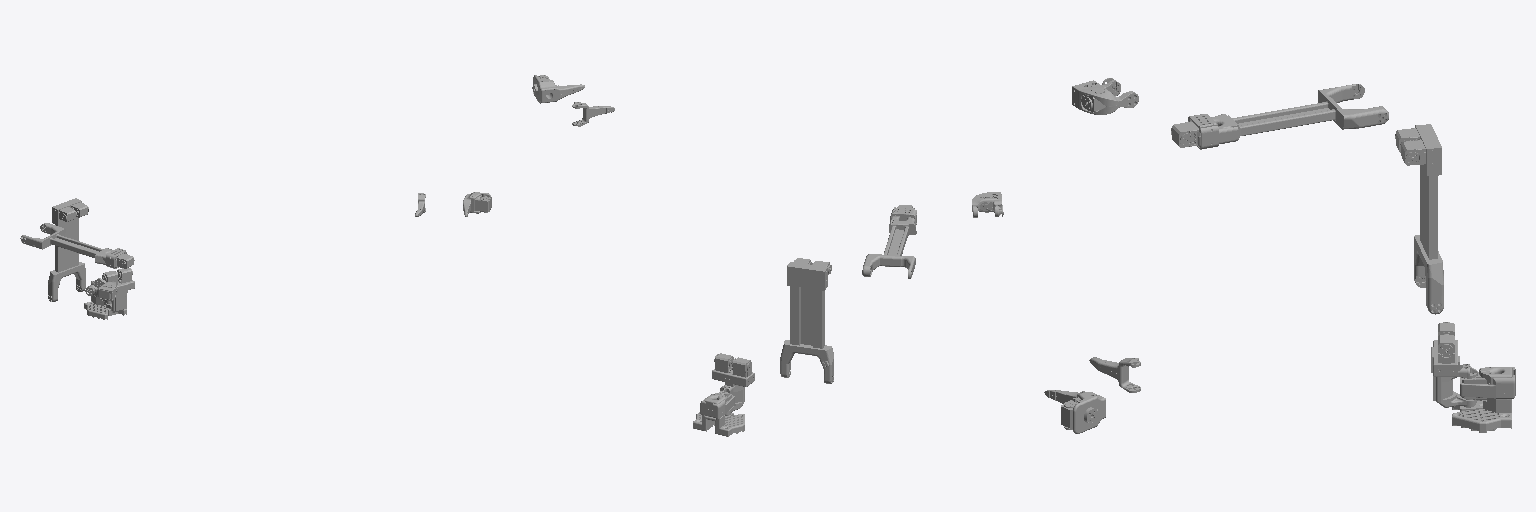
robot.urdf — PingTi_Arm_v3:
<?xml version="1.0" ?>
<!-- =================================================================================== -->
<!-- |    This document was autogenerated by xacro from /root/PingTi_Arm_v3_description/urdf/PingTi_Arm_v3.xacro | -->
<!-- |    EDITING THIS FILE BY HAND IS NOT RECOMMENDED                                 | -->
<!-- =================================================================================== -->
<robot name="PingTi_Arm_v3">
  <material name="silver">
    <color rgba="0.700 0.700 0.700 1.000"/>
  </material>
  <transmission name="elbow_pitch_tran">
    <type>transmission_interface/SimpleTransmission</type>
    <joint name="elbow_pitch">
      <hardwareInterface>hardware_interface/EffortJointInterface</hardwareInterface>
    </joint>
    <actuator name="elbow_pitch_actr">
      <hardwareInterface>hardware_interface/EffortJointInterface</hardwareInterface>
      <mechanicalReduction>1</mechanicalReduction>
    </actuator>
  </transmission>
  <transmission name="wrist_pitch_tran">
    <type>transmission_interface/SimpleTransmission</type>
    <joint name="wrist_pitch">
      <hardwareInterface>hardware_interface/EffortJointInterface</hardwareInterface>
    </joint>
    <actuator name="wrist_pitch_actr">
      <hardwareInterface>hardware_interface/EffortJointInterface</hardwareInterface>
      <mechanicalReduction>1</mechanicalReduction>
    </actuator>
  </transmission>
  <transmission name="wrist_roll_tran">
    <type>transmission_interface/SimpleTransmission</type>
    <joint name="wrist_roll">
      <hardwareInterface>hardware_interface/EffortJointInterface</hardwareInterface>
    </joint>
    <actuator name="wrist_roll_actr">
      <hardwareInterface>hardware_interface/EffortJointInterface</hardwareInterface>
      <mechanicalReduction>1</mechanicalReduction>
    </actuator>
  </transmission>
  <transmission name="gripper_moving_tran">
    <type>transmission_interface/SimpleTransmission</type>
    <joint name="gripper_moving">
      <hardwareInterface>hardware_interface/EffortJointInterface</hardwareInterface>
    </joint>
    <actuator name="gripper_moving_actr">
      <hardwareInterface>hardware_interface/EffortJointInterface</hardwareInterface>
      <mechanicalReduction>1</mechanicalReduction>
    </actuator>
  </transmission>
  <transmission name="base_yaw_tran">
    <type>transmission_interface/SimpleTransmission</type>
    <joint name="base_yaw">
      <hardwareInterface>hardware_interface/EffortJointInterface</hardwareInterface>
    </joint>
    <actuator name="base_yaw_actr">
      <hardwareInterface>hardware_interface/EffortJointInterface</hardwareInterface>
      <mechanicalReduction>1</mechanicalReduction>
    </actuator>
  </transmission>
  <transmission name="shoulder_pitch_tran">
    <type>transmission_interface/SimpleTransmission</type>
    <joint name="shoulder_pitch">
      <hardwareInterface>hardware_interface/EffortJointInterface</hardwareInterface>
    </joint>
    <actuator name="shoulder_pitch_actr">
      <hardwareInterface>hardware_interface/EffortJointInterface</hardwareInterface>
      <mechanicalReduction>1</mechanicalReduction>
    </actuator>
  </transmission>
  <gazebo>
    <plugin filename="libgazebo_ros_control.so" name="control"/>
  </gazebo>
  <gazebo reference="base_link">
    <material>Gazebo/Silver</material>
    <mu1>0.2</mu1>
    <mu2>0.2</mu2>
    <selfCollide>true</selfCollide>
    <gravity>true</gravity>
  </gazebo>
  <gazebo reference="elbow_link_1">
    <material>Gazebo/Silver</material>
    <mu1>0.2</mu1>
    <mu2>0.2</mu2>
    <selfCollide>true</selfCollide>
  </gazebo>
  <gazebo reference="STS3215_wrist_pitch_1">
    <material>Gazebo/Silver</material>
    <mu1>0.2</mu1>
    <mu2>0.2</mu2>
    <selfCollide>true</selfCollide>
  </gazebo>
  <gazebo reference="wrist_link_1">
    <material>Gazebo/Silver</material>
    <mu1>0.2</mu1>
    <mu2>0.2</mu2>
    <selfCollide>true</selfCollide>
  </gazebo>
  <gazebo reference="STS3215_wrist_roll_1">
    <material>Gazebo/Silver</material>
    <mu1>0.2</mu1>
    <mu2>0.2</mu2>
    <selfCollide>true</selfCollide>
  </gazebo>
  <gazebo reference="gripper_mount_1">
    <material>Gazebo/Silver</material>
    <mu1>0.2</mu1>
    <mu2>0.2</mu2>
    <selfCollide>true</selfCollide>
  </gazebo>
  <gazebo reference="STS3215_gripper_1">
    <material>Gazebo/Silver</material>
    <mu1>0.2</mu1>
    <mu2>0.2</mu2>
    <selfCollide>true</selfCollide>
  </gazebo>
  <gazebo reference="moving_gripper_1">
    <material>Gazebo/Silver</material>
    <mu1>0.2</mu1>
    <mu2>0.2</mu2>
    <selfCollide>true</selfCollide>
  </gazebo>
  <gazebo reference="wrist_mount_link_1">
    <material>Gazebo/Silver</material>
    <mu1>0.2</mu1>
    <mu2>0.2</mu2>
    <selfCollide>true</selfCollide>
  </gazebo>
  <gazebo reference="STS3215_base_yaw_1">
    <material>Gazebo/Silver</material>
    <mu1>0.2</mu1>
    <mu2>0.2</mu2>
    <selfCollide>true</selfCollide>
  </gazebo>
  <gazebo reference="base_yaw_link_1">
    <material>Gazebo/Silver</material>
    <mu1>0.2</mu1>
    <mu2>0.2</mu2>
    <selfCollide>true</selfCollide>
  </gazebo>
  <gazebo reference="STS3215_shoulder_pitch_1_1">
    <material>Gazebo/Silver</material>
    <mu1>0.2</mu1>
    <mu2>0.2</mu2>
    <selfCollide>true</selfCollide>
  </gazebo>
  <gazebo reference="STS3215_shoulder_pitch_2_1">
    <material>Gazebo/Silver</material>
    <mu1>0.2</mu1>
    <mu2>0.2</mu2>
    <selfCollide>true</selfCollide>
  </gazebo>
  <gazebo reference="shoulder_link_1">
    <material>Gazebo/Silver</material>
    <mu1>0.2</mu1>
    <mu2>0.2</mu2>
    <selfCollide>true</selfCollide>
  </gazebo>
  <gazebo reference="STS3215_elbow_pitch_1_1">
    <material>Gazebo/Silver</material>
    <mu1>0.2</mu1>
    <mu2>0.2</mu2>
    <selfCollide>true</selfCollide>
  </gazebo>
  <gazebo reference="STS3215_elbow_pitch_2_1">
    <material>Gazebo/Silver</material>
    <mu1>0.2</mu1>
    <mu2>0.2</mu2>
    <selfCollide>true</selfCollide>
  </gazebo>
  <link name="base_link">
    <inertial>
      <origin rpy="0 0 0" xyz="-3.2942227991692706e-06 -0.016410113639789673 0.025524321515390098"/>
      <mass value="1.1606702094747876"/>
      <inertia ixx="0.001182" ixy="-0.0" ixz="0.0" iyy="0.001221" iyz="-0.000216" izz="0.001296"/>
    </inertial>
    <visual>
      <origin rpy="0 0 0" xyz="0 0 0"/>
      <geometry>
        <mesh filename="meshes/base_link.stl" scale="0.001 0.001 0.001"/>
      </geometry>
      <material name="silver"/>
    </visual>
    <collision>
      <origin rpy="0 0 0" xyz="0 0 0"/>
      <geometry>
        <mesh filename="meshes/base_link.stl" scale="0.001 0.001 0.001"/>
      </geometry>
    </collision>
  </link>
  <link name="elbow_link_1">
    <inertial>
      <origin rpy="0 0 0" xyz="-0.006368202700747123 -0.13257432066234234 -0.000710253994771759"/>
      <mass value="1.3232321824941673"/>
      <inertia ixx="0.009536" ixy="0.001261" ixz="7e-06" iyy="0.001028" iyz="-4.6e-05" izz="0.010469"/>
    </inertial>
    <visual>
      <origin rpy="0 0 0" xyz="-0.052878 0.100187 -0.3528"/>
      <geometry>
        <mesh filename="meshes/elbow_link_1.stl" scale="0.001 0.001 0.001"/>
      </geometry>
      <material name="silver"/>
    </visual>
    <collision>
      <origin rpy="0 0 0" xyz="-0.052878 0.100187 -0.3528"/>
      <geometry>
        <mesh filename="meshes/elbow_link_1.stl" scale="0.001 0.001 0.001"/>
      </geometry>
    </collision>
  </link>
  <link name="STS3215_wrist_pitch_1">
    <inertial>
      <origin rpy="0 0 0" xyz="-0.015103902665090832 -0.015364326843161913 -2.529961420916216e-07"/>
      <mass value="0.2843033831904074"/>
      <inertia ixx="6.1e-05" ixy="4e-06" ixz="-0.0" iyy="4e-05" iyz="-0.0" izz="7.3e-05"/>
    </inertial>
    <visual>
      <origin rpy="0 0 0" xyz="-0.088612 0.364006 -0.355125"/>
      <geometry>
        <mesh filename="meshes/STS3215_wrist_pitch_1.stl" scale="0.001 0.001 0.001"/>
      </geometry>
      <material name="silver"/>
    </visual>
    <collision>
      <origin rpy="0 0 0" xyz="-0.088612 0.364006 -0.355125"/>
      <geometry>
        <mesh filename="meshes/STS3215_wrist_pitch_1.stl" scale="0.001 0.001 0.001"/>
      </geometry>
    </collision>
  </link>
  <link name="wrist_link_1">
    <inertial>
      <origin rpy="0 0 0" xyz="0.019701433146455137 -0.022957641297722542 -5.135733105687823e-05"/>
      <mass value="0.2392168278135931"/>
      <inertia ixx="0.000118" ixy="-8e-06" ixz="-0.0" iyy="0.000123" iyz="0.0" izz="0.0002"/>
    </inertial>
    <visual>
      <origin rpy="0 0 0" xyz="-0.056252 0.395423 -0.354675"/>
      <geometry>
        <mesh filename="meshes/wrist_link_1.stl" scale="0.001 0.001 0.001"/>
      </geometry>
      <material name="silver"/>
    </visual>
    <collision>
      <origin rpy="0 0 0" xyz="-0.056252 0.395423 -0.354675"/>
      <geometry>
        <mesh filename="meshes/wrist_link_1.stl" scale="0.001 0.001 0.001"/>
      </geometry>
    </collision>
  </link>
  <link name="STS3215_wrist_roll_1">
    <inertial>
      <origin rpy="0 0 0" xyz="-0.008933246759550137 -0.020582128831145963 -2.5299615225016225e-07"/>
      <mass value="0.2843033831904074"/>
      <inertia ixx="4e-05" ixy="-4e-06" ixz="0.0" iyy="6.1e-05" iyz="-0.0" izz="7.3e-05"/>
    </inertial>
    <visual>
      <origin rpy="0 0 0" xyz="-0.078363 0.413656 -0.354675"/>
      <geometry>
        <mesh filename="meshes/STS3215_wrist_roll_1.stl" scale="0.001 0.001 0.001"/>
      </geometry>
      <material name="silver"/>
    </visual>
    <collision>
      <origin rpy="0 0 0" xyz="-0.078363 0.413656 -0.354675"/>
      <geometry>
        <mesh filename="meshes/STS3215_wrist_roll_1.stl" scale="0.001 0.001 0.001"/>
      </geometry>
    </collision>
  </link>
  <link name="gripper_mount_1">
    <inertial>
      <origin rpy="0 0 0" xyz="0.0026773059376802855 -0.020173178230651845 -0.01565257096694167"/>
      <mass value="0.44698022927880193"/>
      <inertia ixx="0.000327" ixy="3.1e-05" ixz="7e-06" iyy="0.000172" iyz="-5.5e-05" izz="0.000301"/>
    </inertial>
    <visual>
      <origin rpy="0 0 0" xyz="-0.087531 0.451084 -0.355125"/>
      <geometry>
        <mesh filename="meshes/gripper_mount_1.stl" scale="0.001 0.001 0.001"/>
      </geometry>
      <material name="silver"/>
    </visual>
    <collision>
      <origin rpy="0 0 0" xyz="-0.087531 0.451084 -0.355125"/>
      <geometry>
        <mesh filename="meshes/gripper_mount_1.stl" scale="0.001 0.001 0.001"/>
      </geometry>
    </collision>
  </link>
  <link name="STS3215_gripper_1">
    <inertial>
      <origin rpy="0 0 0" xyz="0.00012461197605628804 2.539181574140459e-05 0.02239868354094854"/>
      <mass value="0.2843033831904074"/>
      <inertia ixx="6.2e-05" ixy="-2e-06" ixz="-1e-06" iyy="7.3e-05" iyz="-0.0" izz="4e-05"/>
    </inertial>
    <visual>
      <origin rpy="0 0 0" xyz="-0.088124 0.465652 -0.338236"/>
      <geometry>
        <mesh filename="meshes/STS3215_gripper_1.stl" scale="0.001 0.001 0.001"/>
      </geometry>
      <material name="silver"/>
    </visual>
    <collision>
      <origin rpy="0 0 0" xyz="-0.088124 0.465652 -0.338236"/>
      <geometry>
        <mesh filename="meshes/STS3215_gripper_1.stl" scale="0.001 0.001 0.001"/>
      </geometry>
    </collision>
  </link>
  <link name="moving_gripper_1">
    <inertial>
      <origin rpy="0 0 0" xyz="-0.014635153287696837 -0.03276490039211122 -0.0005006987132448737"/>
      <mass value="0.1586808414280307"/>
      <inertia ixx="6.8e-05" ixy="1e-05" ixz="1e-06" iyy="2.6e-05" iyz="-4e-06" izz="8.7e-05"/>
    </inertial>
    <visual>
      <origin rpy="0 0 0" xyz="-0.107931 0.461685 -0.373436"/>
      <geometry>
        <mesh filename="meshes/moving_gripper_1.stl" scale="0.001 0.001 0.001"/>
      </geometry>
      <material name="silver"/>
    </visual>
    <collision>
      <origin rpy="0 0 0" xyz="-0.107931 0.461685 -0.373436"/>
      <geometry>
        <mesh filename="meshes/moving_gripper_1.stl" scale="0.001 0.001 0.001"/>
      </geometry>
    </collision>
  </link>
  <link name="wrist_mount_link_1">
    <inertial>
      <origin rpy="0 0 0" xyz="0.022710832853232152 0.004489136774674496 0.0018439782253499293"/>
      <mass value="0.10853073755546008"/>
      <inertia ixx="2.8e-05" ixy="-6e-06" ixz="-0.0" iyy="5.7e-05" iyz="0.0" izz="4.6e-05"/>
    </inertial>
    <visual>
      <origin rpy="0 0 0" xyz="-0.046447 0.363782 -0.3548"/>
      <geometry>
        <mesh filename="meshes/wrist_mount_link_1.stl" scale="0.001 0.001 0.001"/>
      </geometry>
      <material name="silver"/>
    </visual>
    <collision>
      <origin rpy="0 0 0" xyz="-0.046447 0.363782 -0.3548"/>
      <geometry>
        <mesh filename="meshes/wrist_mount_link_1.stl" scale="0.001 0.001 0.001"/>
      </geometry>
    </collision>
  </link>
  <link name="STS3215_base_yaw_1">
    <inertial>
      <origin rpy="0 0 0" xyz="6.752884890919568e-12 0.02300097243678148 0.00012706492471613318"/>
      <mass value="0.2843033831904074"/>
      <inertia ixx="7.3e-05" ixy="-0.0" ixz="0.0" iyy="4e-05" iyz="1e-06" izz="6.2e-05"/>
    </inertial>
    <visual>
      <origin rpy="0 0 0" xyz="0.0 0.0554 -0.0481"/>
      <geometry>
        <mesh filename="meshes/STS3215_base_yaw_1.stl" scale="0.001 0.001 0.001"/>
      </geometry>
      <material name="silver"/>
    </visual>
    <collision>
      <origin rpy="0 0 0" xyz="0.0 0.0554 -0.0481"/>
      <geometry>
        <mesh filename="meshes/STS3215_base_yaw_1.stl" scale="0.001 0.001 0.001"/>
      </geometry>
    </collision>
  </link>
  <link name="base_yaw_link_1">
    <inertial>
      <origin rpy="0 0 0" xyz="0.0066121913949635435 -0.03322206721963538 0.03628999238042017"/>
      <mass value="0.8041215139582379"/>
      <inertia ixx="0.000599" ixy="-7e-06" ixz="-9e-06" iyy="0.000638" iyz="3.9e-05" izz="0.00036"/>
    </inertial>
    <visual>
      <origin rpy="0 0 0" xyz="0.0 0.0452 -0.0298"/>
      <geometry>
        <mesh filename="meshes/base_yaw_link_1.stl" scale="0.001 0.001 0.001"/>
      </geometry>
      <material name="silver"/>
    </visual>
    <collision>
      <origin rpy="0 0 0" xyz="0.0 0.0452 -0.0298"/>
      <geometry>
        <mesh filename="meshes/base_yaw_link_1.stl" scale="0.001 0.001 0.001"/>
      </geometry>
    </collision>
  </link>
  <link name="STS3215_shoulder_pitch_1_1">
    <inertial>
      <origin rpy="0 0 0" xyz="0.00012478845663918547 2.5028932493509348e-05 0.02239902756319745"/>
      <mass value="0.2843033831904074"/>
      <inertia ixx="6.2e-05" ixy="-2e-06" ixz="-1e-06" iyy="7.3e-05" iyz="-0.0" izz="4e-05"/>
    </inertial>
    <visual>
      <origin rpy="0 0 0" xyz="-0.026994 0.0735 -0.0864"/>
      <geometry>
        <mesh filename="meshes/STS3215_shoulder_pitch_1_1.stl" scale="0.001 0.001 0.001"/>
      </geometry>
      <material name="silver"/>
    </visual>
    <collision>
      <origin rpy="0 0 0" xyz="-0.026994 0.0735 -0.0864"/>
      <geometry>
        <mesh filename="meshes/STS3215_shoulder_pitch_1_1.stl" scale="0.001 0.001 0.001"/>
      </geometry>
    </collision>
  </link>
  <link name="STS3215_shoulder_pitch_2_1">
    <inertial>
      <origin rpy="0 0 0" xyz="-0.00012502334154068304 -2.491142533807278e-05 0.022399027563196117"/>
      <mass value="0.2843033831904074"/>
      <inertia ixx="6.2e-05" ixy="-2e-06" ixz="1e-06" iyy="7.3e-05" iyz="0.0" izz="4e-05"/>
    </inertial>
    <visual>
      <origin rpy="0 0 0" xyz="0.014013 0.081713 -0.0864"/>
      <geometry>
        <mesh filename="meshes/STS3215_shoulder_pitch_2_1.stl" scale="0.001 0.001 0.001"/>
      </geometry>
      <material name="silver"/>
    </visual>
    <collision>
      <origin rpy="0 0 0" xyz="0.014013 0.081713 -0.0864"/>
      <geometry>
        <mesh filename="meshes/STS3215_shoulder_pitch_2_1.stl" scale="0.001 0.001 0.001"/>
      </geometry>
    </collision>
  </link>
  <link name="shoulder_link_1">
    <inertial>
      <origin rpy="0 0 0" xyz="-0.04009132750395989 -0.008071300634675801 0.1143995501318232"/>
      <mass value="1.815312307803877"/>
      <inertia ixx="0.010722" ixy="-0.000321" ixz="0.0" iyy="0.012269" iyz="-6.4e-05" izz="0.001796"/>
    </inertial>
    <visual>
      <origin rpy="0 0 0" xyz="-0.046712 0.069092 -0.12115"/>
      <geometry>
        <mesh filename="meshes/shoulder_link_1.stl" scale="0.001 0.001 0.001"/>
      </geometry>
      <material name="silver"/>
    </visual>
    <collision>
      <origin rpy="0 0 0" xyz="-0.046712 0.069092 -0.12115"/>
      <geometry>
        <mesh filename="meshes/shoulder_link_1.stl" scale="0.001 0.001 0.001"/>
      </geometry>
    </collision>
  </link>
  <link name="STS3215_elbow_pitch_1_1">
    <inertial>
      <origin rpy="0 0 0" xyz="0.004523009170013775 -0.021937733328752027 -2.5253846619444076e-07"/>
      <mass value="0.2843033831904074"/>
      <inertia ixx="6e-05" ixy="5e-06" ixz="-0.0" iyy="4.1e-05" iyz="0.0" izz="7.3e-05"/>
    </inertial>
    <visual>
      <origin rpy="0 0 0" xyz="-0.026159 0.069639 -0.3528"/>
      <geometry>
        <mesh filename="meshes/STS3215_elbow_pitch_1_1.stl" scale="0.001 0.001 0.001"/>
      </geometry>
      <material name="silver"/>
    </visual>
    <collision>
      <origin rpy="0 0 0" xyz="-0.026159 0.069639 -0.3528"/>
      <geometry>
        <mesh filename="meshes/STS3215_elbow_pitch_1_1.stl" scale="0.001 0.001 0.001"/>
      </geometry>
    </collision>
  </link>
  <link name="STS3215_elbow_pitch_2_1">
    <inertial>
      <origin rpy="0 0 0" xyz="0.004274566780616719 -0.02198820720088046 -2.525249563345433e-07"/>
      <mass value="0.2843033831904074"/>
      <inertia ixx="6.1e-05" ixy="4e-06" ixz="-0.0" iyy="4e-05" iyz="-0.0" izz="7.3e-05"/>
    </inertial>
    <visual>
      <origin rpy="0 0 0" xyz="0.014163 0.077714 -0.3528"/>
      <geometry>
        <mesh filename="meshes/STS3215_elbow_pitch_2_1.stl" scale="0.001 0.001 0.001"/>
      </geometry>
      <material name="silver"/>
    </visual>
    <collision>
      <origin rpy="0 0 0" xyz="0.014163 0.077714 -0.3528"/>
      <geometry>
        <mesh filename="meshes/STS3215_elbow_pitch_2_1.stl" scale="0.001 0.001 0.001"/>
      </geometry>
    </collision>
  </link>
<!-- elbow_pitch: axis was (-0.980528, -0.196381, 0) = ~11.3 deg from -X around Z -->
<joint name="elbow_pitch" type="revolute">
    <origin rpy="0 0 0.19635" xyz="0.026719 -0.030548 0.0"/>
    <parent link="STS3215_elbow_pitch_1_1"/>
    <child link="elbow_link_1"/>
    <axis xyz="-1 0 0"/>
    <limit effort="100" lower="-1.570796" upper="1.919862" velocity="100"/>
</joint>
  <joint name="elbow_wrist_servo_connect" type="fixed">
    <origin rpy="0 0 0" xyz="0.035734 -0.263819 0.002325"/>
    <parent link="elbow_link_1"/>
    <child link="STS3215_wrist_pitch_1"/>
  </joint>
<!-- wrist_pitch: axis was (-0.980528, -0.196381, 0) -->
<joint name="wrist_pitch" type="revolute">
    <origin rpy="0 0 0.19635" xyz="-0.03236 -0.031417 -0.00045"/>
    <parent link="STS3215_wrist_pitch_1"/>
    <child link="wrist_link_1"/>
    <axis xyz="-1 0 0"/>
    <limit effort="100" lower="-1.919862" upper="1.919862" velocity="100"/>
</joint>
  <joint name="wrist_wrist_roll_connect" type="fixed">
    <origin rpy="0 0 0" xyz="0.022111 -0.018233 0.0"/>
    <parent link="wrist_link_1"/>
    <child link="STS3215_wrist_roll_1"/>
  </joint>
<!-- wrist_roll: axis was (0.196381, -0.980528, 0) = ~78.7 deg from X around Z -->
<joint name="wrist_roll" type="revolute">
    <origin rpy="0 0 -1.3744" xyz="0.009168 -0.037428 0.00045"/>
    <!-- -1.3744 rad = -78.75 deg -->
    <parent link="STS3215_wrist_roll_1"/>
    <child link="gripper_mount_1"/>
    <axis xyz="1 0 0"/>
    <limit effort="100" lower="-3.14159" upper="3.14159" velocity="100"/>
</joint>
  <joint name="wrist_griper_mount_connect" type="fixed">
    <origin rpy="0 0 0" xyz="0.000593 -0.014568 -0.016889"/>
    <parent link="gripper_mount_1"/>
    <child link="STS3215_gripper_1"/>
  </joint>
<!-- gripper_moving: axis was (-0.980528, -0.196381, 0) -->
<joint name="gripper_moving" type="revolute">
    <origin rpy="0 0 0.19635" xyz="0.019807 0.003967 0.0352"/>
    <parent link="STS3215_gripper_1"/>
    <child link="moving_gripper_1"/>
    <axis xyz="-1 0 0"/>
    <limit effort="100" lower="-0.20944" upper="1.570796" velocity="100"/>
</joint>
  <joint name="wrist_mount_connect" type="fixed">
    <origin rpy="0 0 0" xyz="-0.006431 -0.263595 0.002"/>
    <parent link="elbow_link_1"/>
    <child link="wrist_mount_link_1"/>
  </joint>
  <joint name="base_link_mount_connect" type="fixed">
    <origin rpy="0 0 0" xyz="0.0 -0.0554 0.0481"/>
    <parent link="base_link"/>
    <child link="STS3215_base_yaw_1"/>
  </joint>
  <joint name="base_yaw" type="revolute">
    <origin rpy="0 0 0" xyz="0.0 0.0102 -0.0183"/>
    <parent link="STS3215_base_yaw_1"/>
    <child link="base_yaw_link_1"/>
    <axis xyz="0.0 0.0 -1.0"/>
    <limit effort="100" lower="-1.919862" upper="1.919862" velocity="100"/>
  </joint>
  <joint name="base_yaw_link_servo_1_connect" type="fixed">
    <origin rpy="0 0 0" xyz="0.026994 -0.0283 0.0566"/>
    <parent link="base_yaw_link_1"/>
    <child link="STS3215_shoulder_pitch_1_1"/>
  </joint>
  <joint name="base_yaw_link_servo_2_connect" type="fixed">
    <origin rpy="0 0 0" xyz="-0.014013 -0.036513 0.0566"/>
    <parent link="base_yaw_link_1"/>
    <child link="STS3215_shoulder_pitch_2_1"/>
  </joint>
<!-- shoulder_pitch: axis was (0.980528, 0.196381, 0) = ~11.3 deg from X around Z -->
<joint name="shoulder_pitch" type="revolute">
    <origin rpy="0 0 0.19635" xyz="0.019718 0.004408 0.03475"/>
    <!-- 0.19635 rad = 11.25 deg compensates the diagonal axis -->
    <parent link="STS3215_shoulder_pitch_1_1"/>
    <child link="shoulder_link_1"/>
    <axis xyz="1 0 0"/>   <!-- now axis-aligned -->
    <limit effort="100" lower="-1.745329" upper="1.745329" velocity="100"/>
</joint>
  <joint name="shoulder_link_servo1_connect" type="fixed">
    <origin rpy="0 0 0" xyz="-0.020553 -0.000547 0.23165"/>
    <parent link="shoulder_link_1"/>
    <child link="STS3215_elbow_pitch_1_1"/>
  </joint>
  <joint name="shoulder_link_servo2_connect" type="fixed">
    <origin rpy="0 0 0" xyz="-0.060875 -0.008622 0.23165"/>
    <parent link="shoulder_link_1"/>
    <child link="STS3215_elbow_pitch_2_1"/>
  </joint>
</robot>

--- Render facts (derived) ---
The picture shows the robot from 3 angles, left to right: view 1: azimuth 30°, elevation 25°; view 2: azimuth 150°, elevation 25°; view 3: azimuth 270°, elevation 25°; orthographic projection.
Robot: PingTi_Arm_v3 — 16 links, 15 joints (6 revolute, 9 fixed); root link base_link; default pose: every joint at zero.
Visible links, largest first — view 1: shoulder_link_1, elbow_link_1; view 2: shoulder_link_1, elbow_link_1, base_link, base_yaw_link_1, gripper_mount_1, wrist_link_1; view 3: elbow_link_1, shoulder_link_1, base_link, base_yaw_link_1, wrist_link_1, gripper_mount_1, moving_gripper_1, wrist_mount_link_1, STS3215_wrist_pitch_1, STS3215_elbow_pitch_1_1.
Boxes of the visible links, box(x1,y1,x2,y2) form: shoulder_link_1: box(48, 198, 85, 301); elbow_link_1: box(20, 223, 117, 267); shoulder_link_1: box(780, 262, 833, 383); elbow_link_1: box(862, 215, 916, 278); base_link: box(693, 392, 744, 436); base_yaw_link_1: box(712, 369, 754, 415); gripper_mount_1: box(532, 75, 584, 103); wrist_link_1: box(972, 192, 1003, 217); elbow_link_1: box(1188, 84, 1388, 146); shoulder_link_1: box(1414, 124, 1443, 314); base_link: box(1452, 367, 1515, 432); base_yaw_link_1: box(1431, 340, 1477, 407); wrist_link_1: box(1072, 78, 1138, 114); gripper_mount_1: box(1044, 390, 1105, 433); moving_gripper_1: box(1089, 357, 1140, 392); wrist_mount_link_1: box(1188, 114, 1218, 149); STS3215_wrist_pitch_1: box(1171, 121, 1200, 147); STS3215_elbow_pitch_1_1: box(1401, 140, 1425, 165).
Bounding box of the posed robot: 1.15 × 0.6758 × 0.3821 m (x, y, z).
16 mesh visuals loaded from 16 distinct referenced files (16 binary STL).
